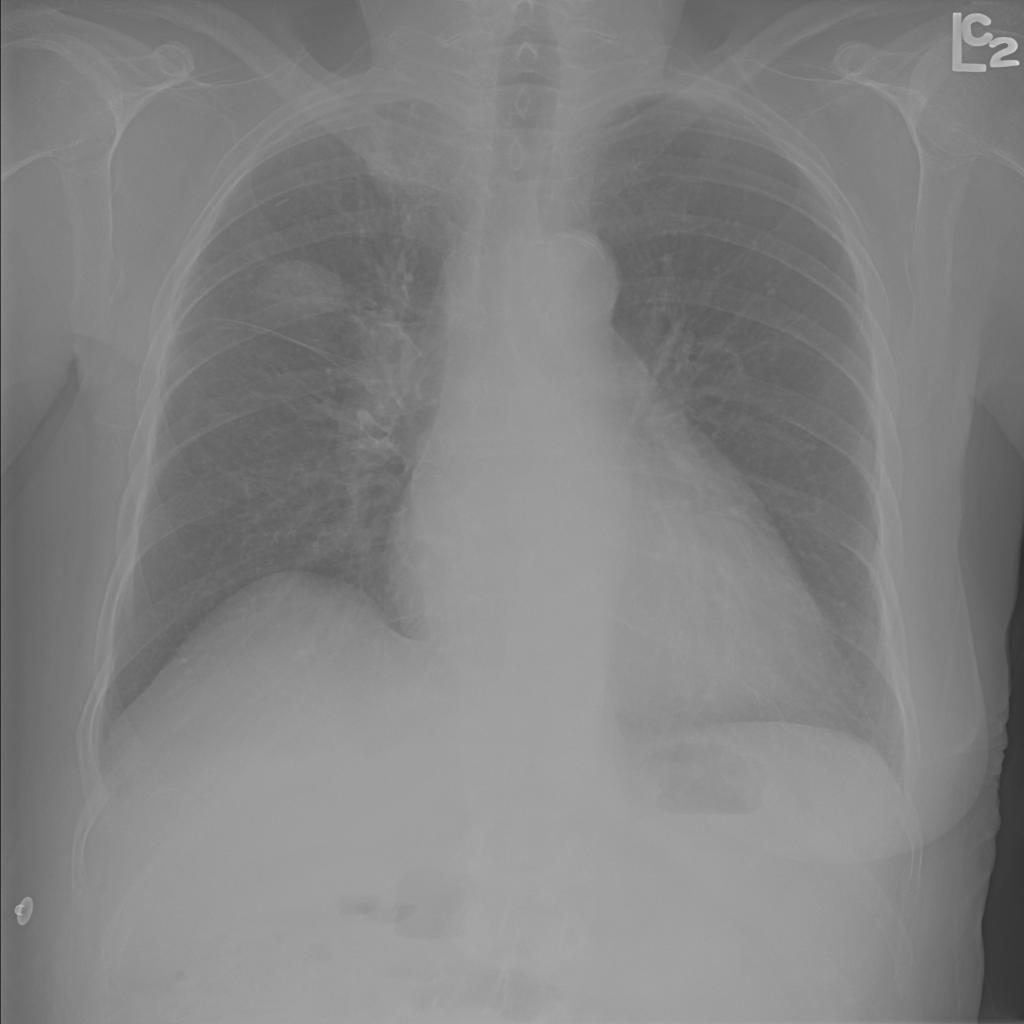Nodule: (156, 131, 201, 161)
